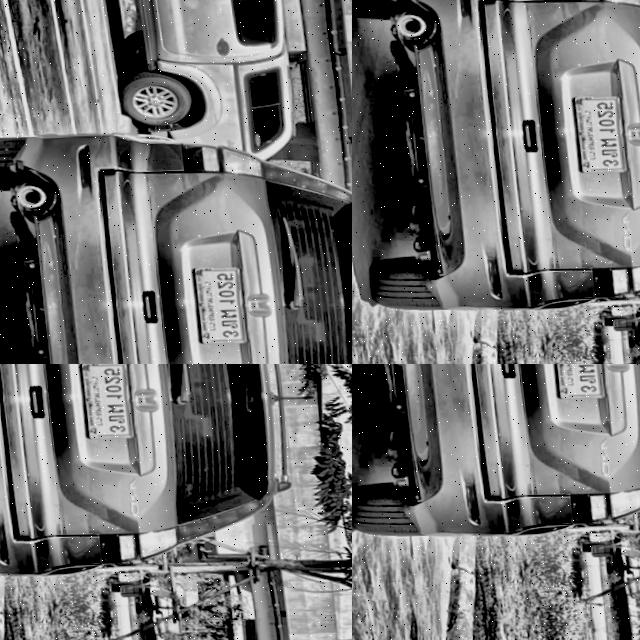license-plate: (3, 364, 352, 640), (537, 364, 602, 401)
